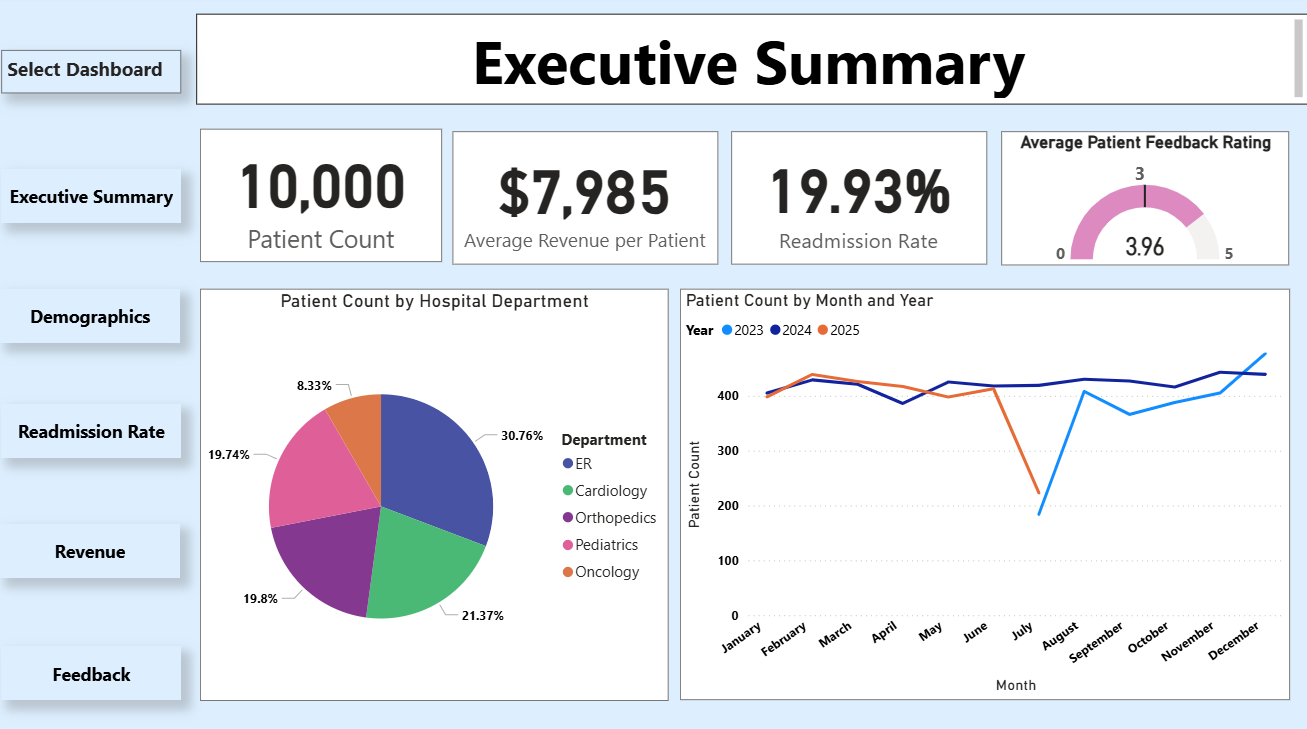

Layout of this report page (visuals, bound fields, positions):
{"tool":"powerbi","page":{"name":"Executive Summary","canvas":[1280,720],"ordinal":0},"visuals":[{"type":"card","fields":{"Values":["emr_data.Patient Count"]},"box":[195.7,131.4,237.1,130],"z":0},{"type":"textbox","box":[191.4,18.6,1088.6,88.6],"z":1000},{"type":"card","fields":{"Values":["emr_data.Average Revenue per Patient"]},"box":[442.9,132.9,260,130],"z":2000},{"type":"card","fields":{"Values":["emr_data.Readmission Rate"]},"box":[715.7,132.9,250,130],"z":3000},{"type":"gauge","title":"Average Patient Feedback Rating","fields":{"Y":["emr_data.Average Feedback Rating"]},"box":[980,132.9,281.4,131.4],"z":4000},{"type":"pieChart","fields":{"Category":["emr_data.Hospital Department"],"Y":["emr_data.Patient Count"]},"box":[195.7,287.1,458.6,402.9],"z":5000},{"type":"lineChart","fields":{"Y":["emr_data.Patient Count"],"Series":["emr_data.Visit Date.Variation.Date Hierarchy.Year"],"Category":["emr_data.Visit Date.Variation.Date Hierarchy.Month"]},"box":[665.2,287.4,596.7,402.3],"z":6000},{"type":"textbox","box":[1.2,53.8,176.1,42.8],"z":7000},{"type":"actionButton","title":"Executive Summary","box":[1.2,399.9,176.1,52.6],"z":8000},{"type":"actionButton","title":"Executive Summary","box":[1.2,170,176.1,52.6],"z":9000},{"type":"actionButton","title":"Executive Summary","box":[0,517.3,176.1,52.6],"z":10000},{"type":"actionButton","title":"Executive Summary","box":[0,287.4,176.1,52.6],"z":11000},{"type":"actionButton","title":"Executive Summary","box":[1.2,637.1,176.1,52.6],"z":12000}]}

Visuals, with their boxes in screenshot pixels (x1, y1, x2, y2), scaled from the page's 1280x720 canvas onto the 1307x729 screenshot:
card - emr_data.Patient Count: <region>200, 133, 442, 265</region>
textbox: <region>195, 19, 1306, 109</region>
card - emr_data.Average Revenue per Patient: <region>452, 135, 718, 266</region>
card - emr_data.Readmission Rate: <region>731, 135, 986, 266</region>
"Average Patient Feedback Rating" gauge: <region>1001, 135, 1288, 268</region>
pieChart - emr_data.Hospital Department x emr_data.Patient Count: <region>200, 291, 668, 699</region>
lineChart - emr_data.Patient Count x emr_data.Visit Date.Variation.Date Hierarchy.Year: <region>679, 291, 1289, 698</region>
textbox: <region>1, 54, 181, 98</region>
"Executive Summary" actionButton: <region>1, 405, 181, 458</region>
"Executive Summary" actionButton: <region>1, 172, 181, 225</region>
"Executive Summary" actionButton: <region>0, 524, 180, 577</region>
"Executive Summary" actionButton: <region>0, 291, 180, 344</region>
"Executive Summary" actionButton: <region>1, 645, 181, 698</region>
